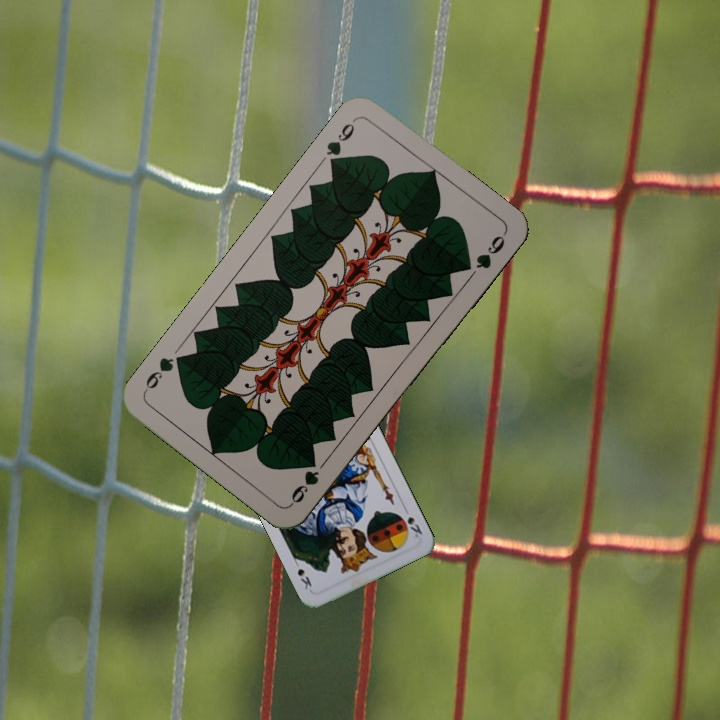G9: (321, 114, 359, 171), (287, 466, 322, 508)
SK: (403, 512, 425, 540)
